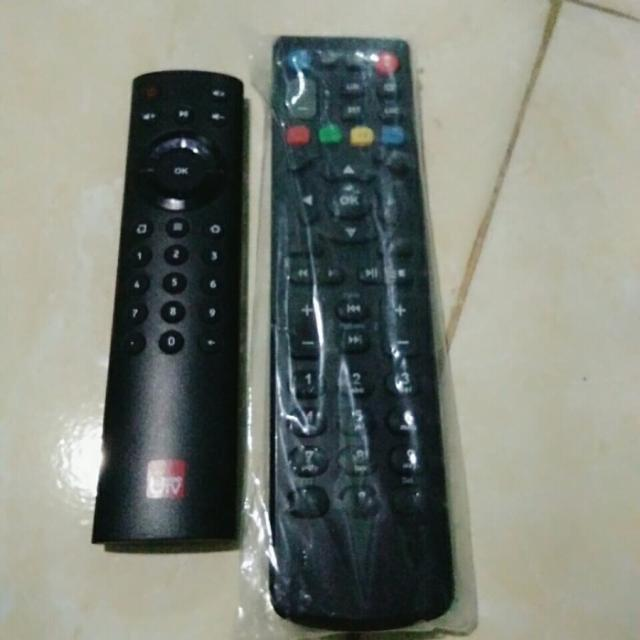remote: (271, 31, 459, 638), (88, 69, 251, 547)
